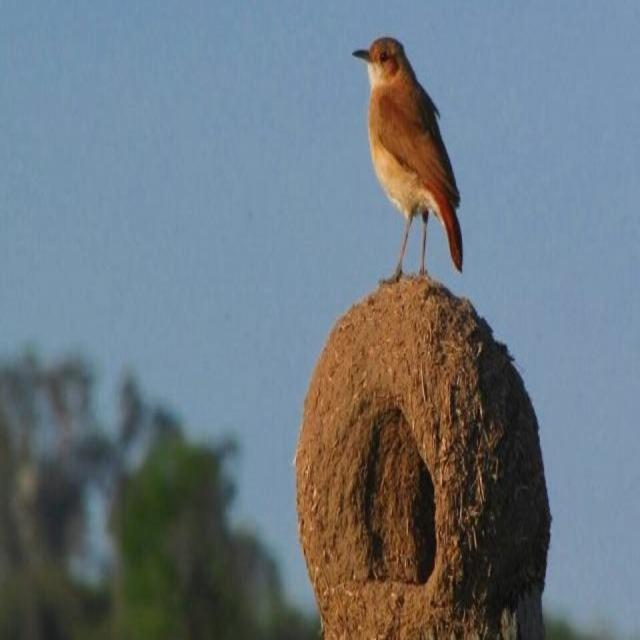bird: (343, 4, 477, 290)
